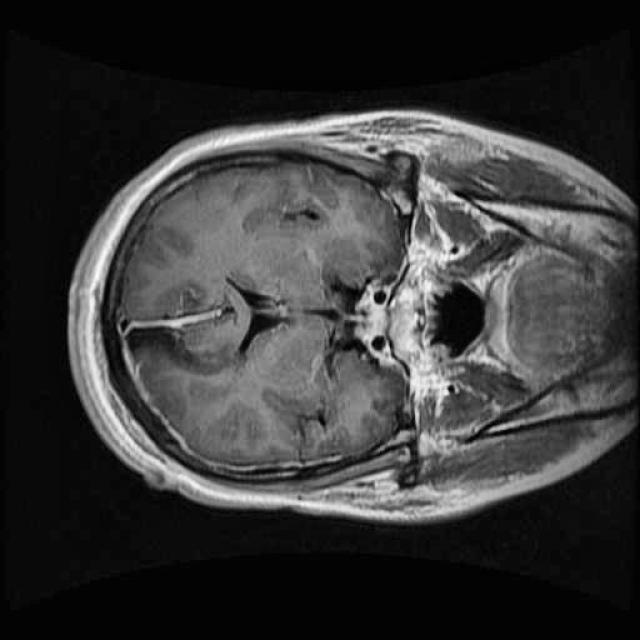Tumor: (110, 294, 242, 392)
